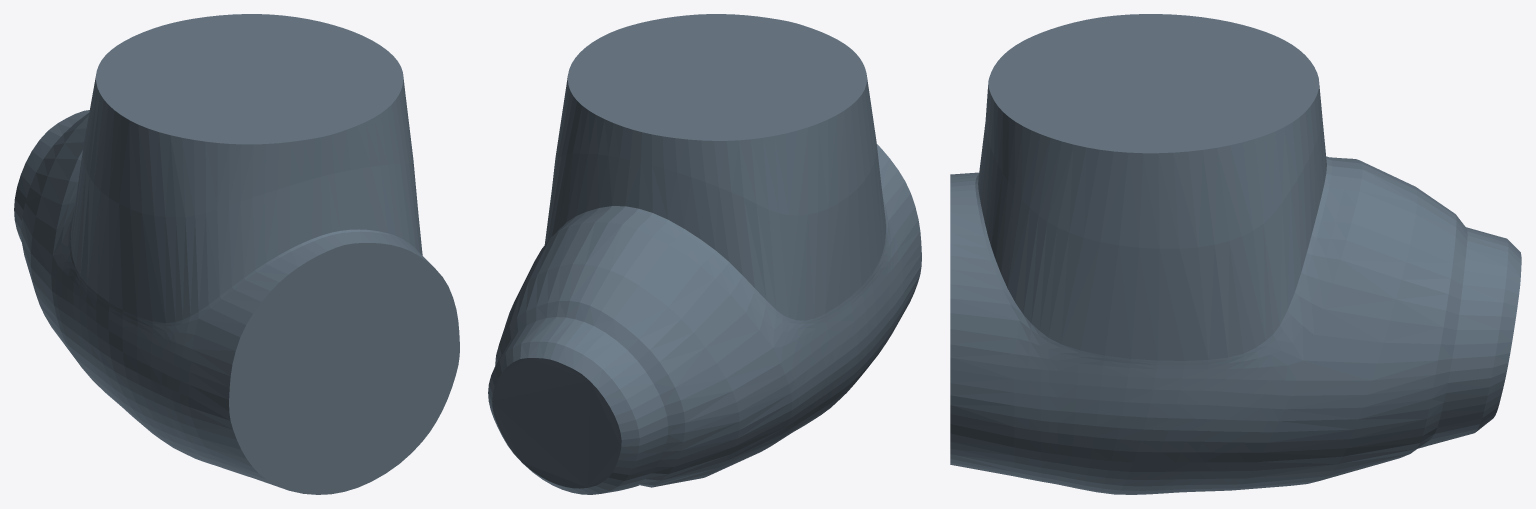
3 views of the same model, side by side, from view 1: azimuth 30°, elevation 25°; view 2: azimuth 150°, elevation 25°; view 3: azimuth 270°, elevation 25° (orthographic). The views are drawn at different scales.
Parts seen in each view (by area): view 1: MF0617_5_0; view 2: MF0617_5_0; view 3: MF0617_5_0.
Boxes of the visible parts, bbox=[...] form: MF0617_5_0: bbox=[14, 14, 459, 494]; MF0617_5_0: bbox=[488, 14, 921, 494]; MF0617_5_0: bbox=[950, 14, 1521, 494].
Bounding box in the file's own units: 107 × 174 × 133.
